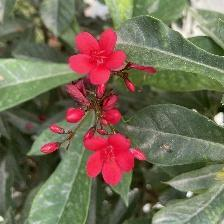jatropha: (69, 29, 132, 91), (83, 132, 144, 184)
